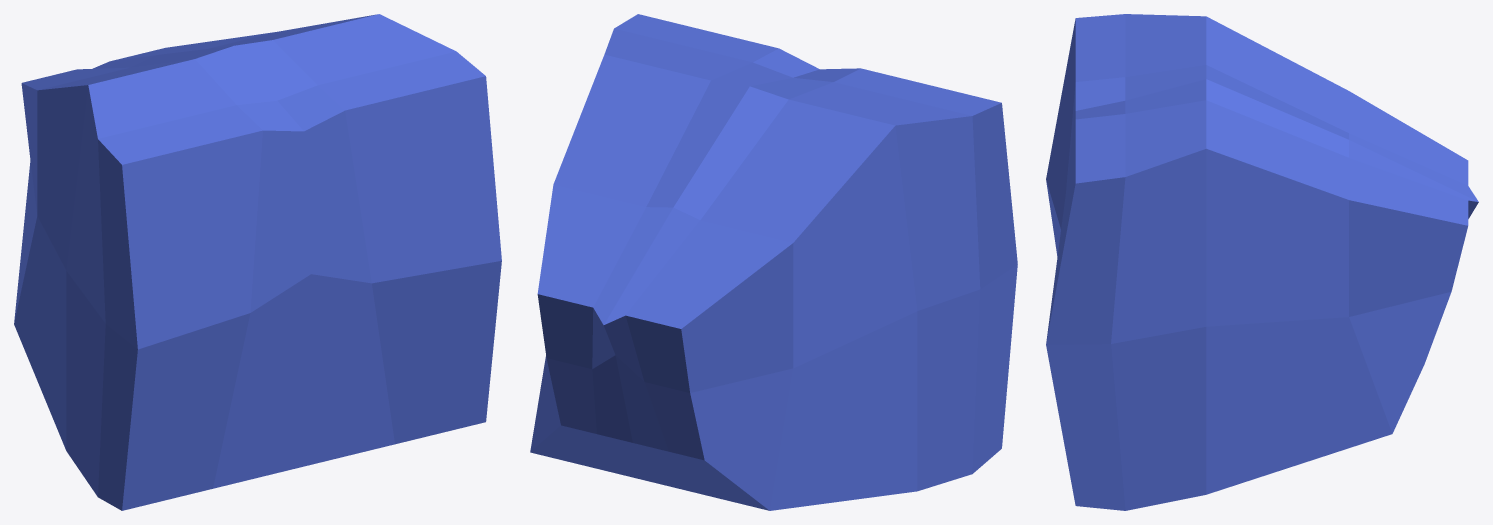
The model's file is koifishHead.glb.
3 views of the same model, side by side, from view 1: azimuth 30°, elevation 25°; view 2: azimuth 150°, elevation 25°; view 3: azimuth 270°, elevation 25° (orthographic). The views are drawn at different scales.
Parts seen in each view (by area): view 1: Head; view 2: Head; view 3: Head.
Boxes of the visible parts, <box> form: Head: <box>14,14,501,510</box>; Head: <box>530,14,1017,510</box>; Head: <box>1046,14,1478,510</box>.
Size of the model in its own units: 3.78 by 3.73 by 4.17.
